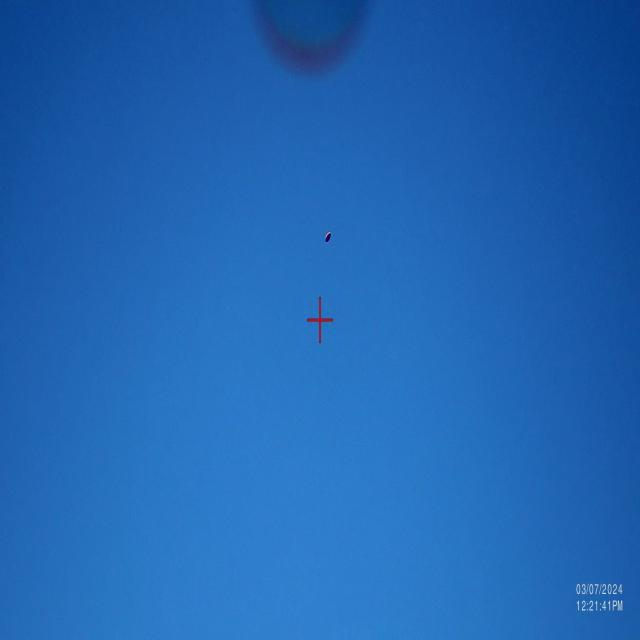entire: (322, 227, 336, 245)
